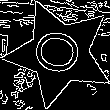O_E: (29, 26, 90, 80)
